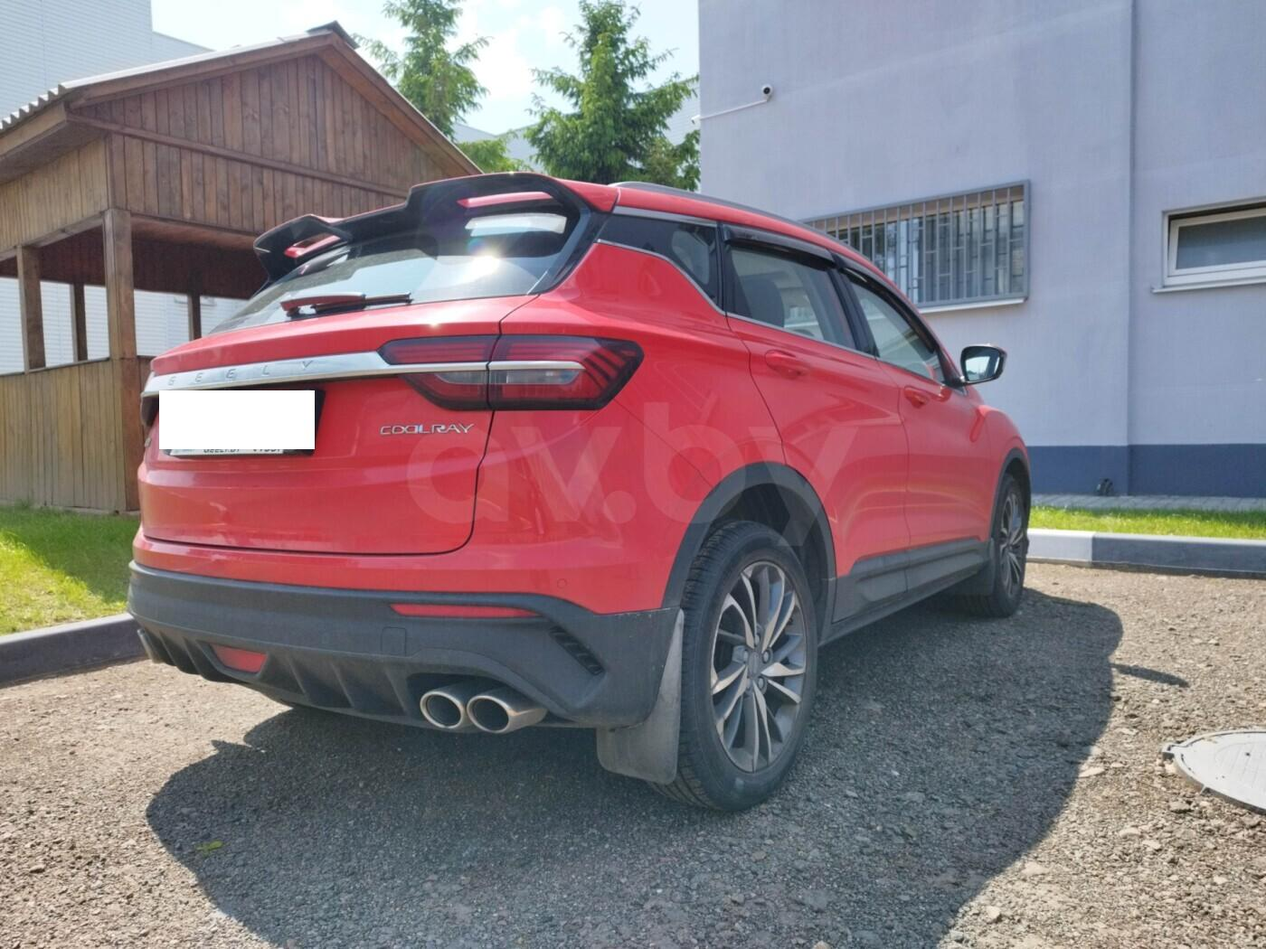Coolray_2019-2023: (119, 169, 1045, 804)
